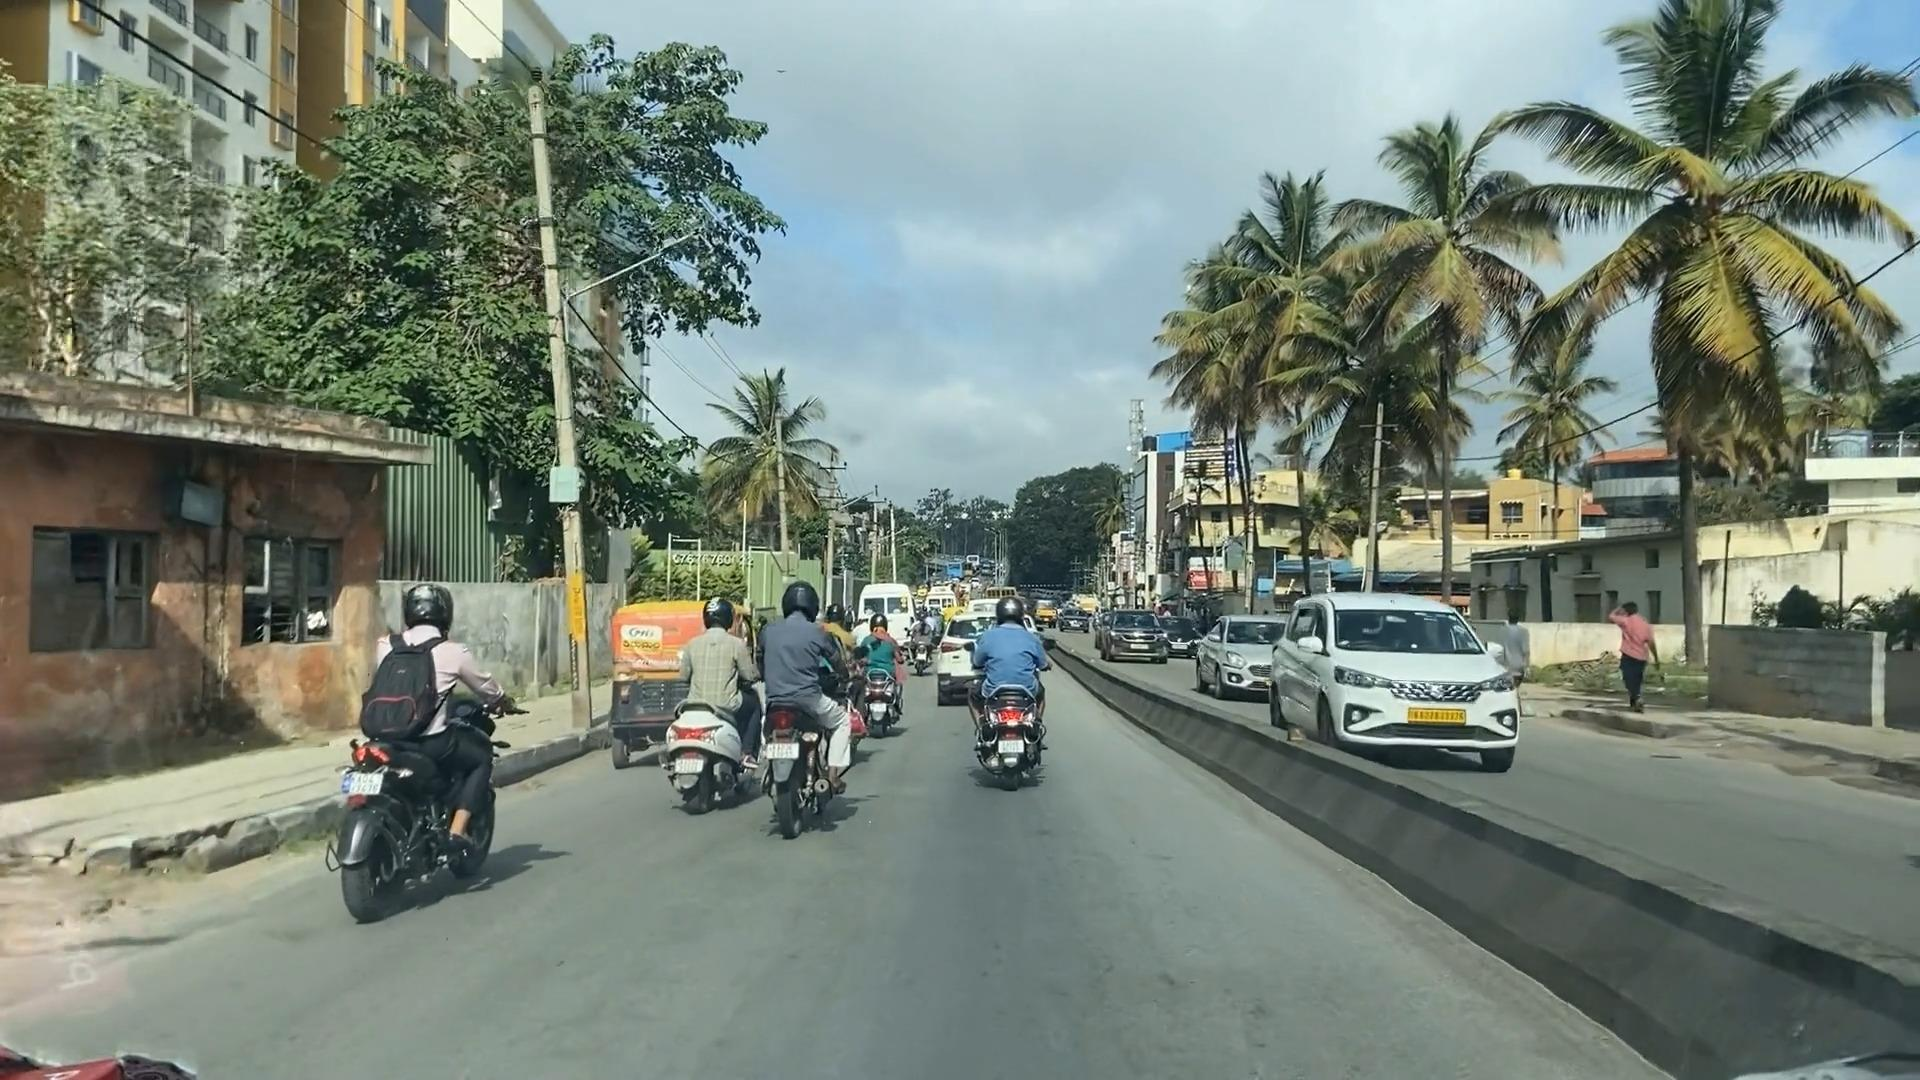LMV: (336, 582, 485, 889), (758, 595, 843, 822), (964, 595, 1044, 790), (666, 618, 738, 823), (856, 612, 895, 727)
